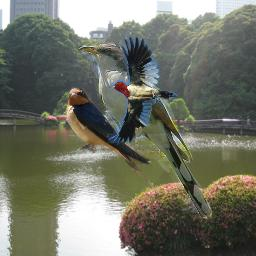Cuckoo: (78, 42, 212, 219)
Swallow: (65, 87, 162, 196)
Woodpecker: (108, 36, 178, 145)
